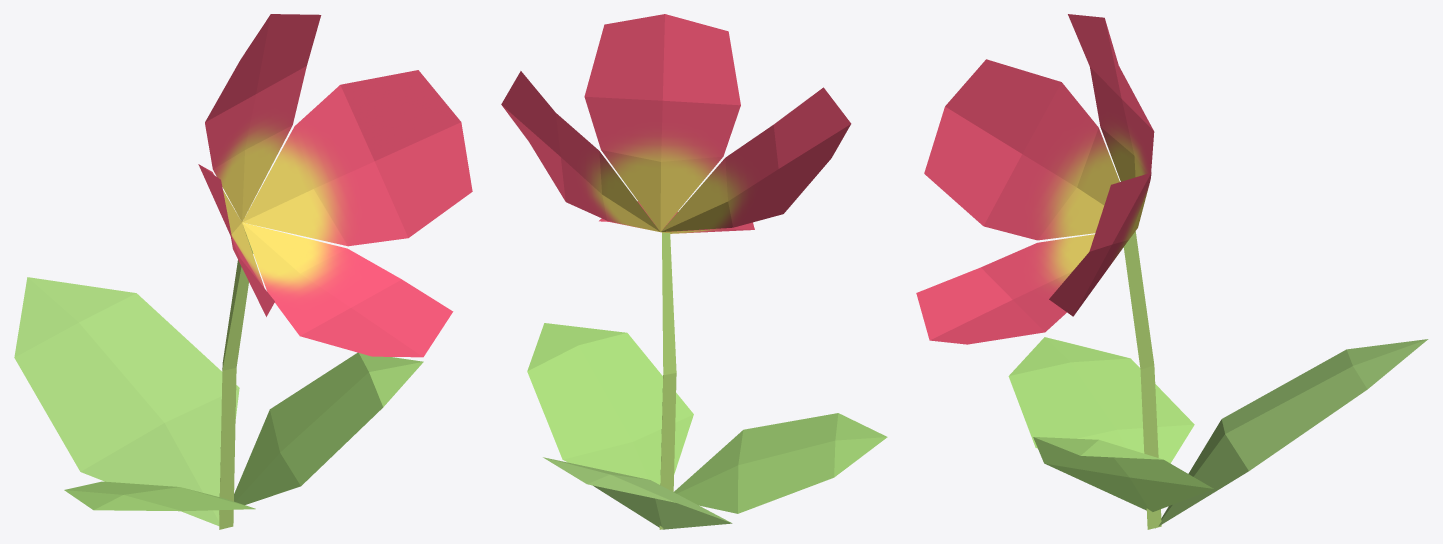
The model's file is Flower_c_OneS_09.fbx.
3 views of the same model, side by side, from view 1: azimuth 30°, elevation 25°; view 2: azimuth 150°, elevation 25°; view 3: azimuth 270°, elevation 25° (orthographic). The views are drawn at different scales.
Parts seen in each view (by area): view 1: Flower_c_OneS_09; view 2: Flower_c_OneS_09; view 3: Flower_c_OneS_09.
Boxes of the visible parts, box(x1,y1,x2,y2) form: Flower_c_OneS_09: box(14, 14, 472, 529); Flower_c_OneS_09: box(501, 14, 887, 529); Flower_c_OneS_09: box(916, 14, 1428, 529).
Size of the model in its own units: 33.24 by 42.85 by 38.12.
